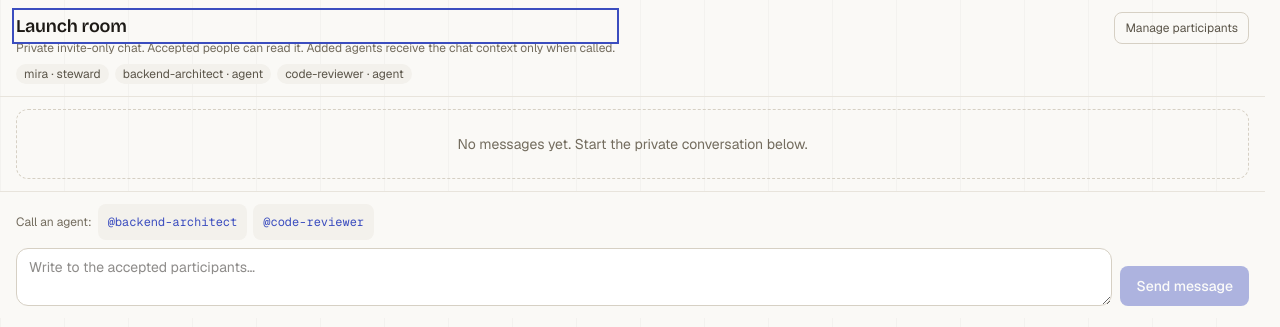
it: @ completion › walks the matches with the arrows and completes with Tab
Expected: the heading "Launch room" is shown, [16,15,127,37]
# a bare "@" offers every invited agent
Type "@" into the text box named "Message Launch room" at (564, 277), box [16,248,1112,306]
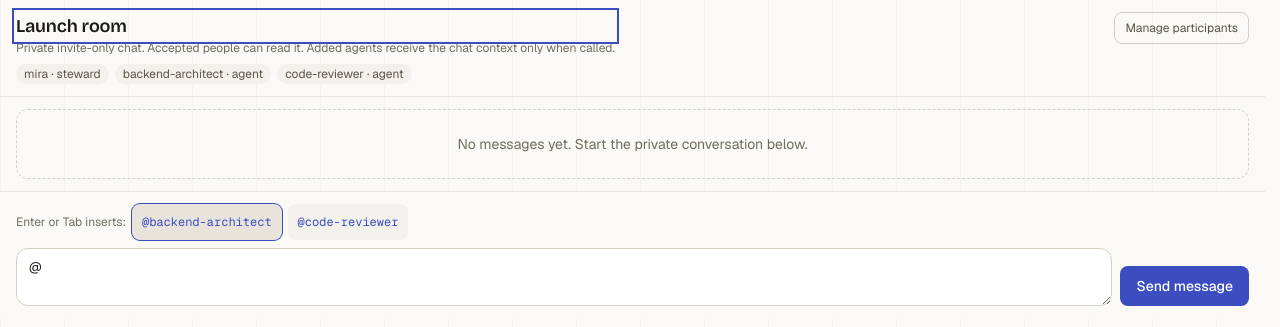
Expected: the options read "@backend-architect", "@code-reviewer", in this order, [132,204,282,240]; [288,204,408,240]
Press ArrowDown in the text box named "Message Launch room", box [16,248,1112,306]
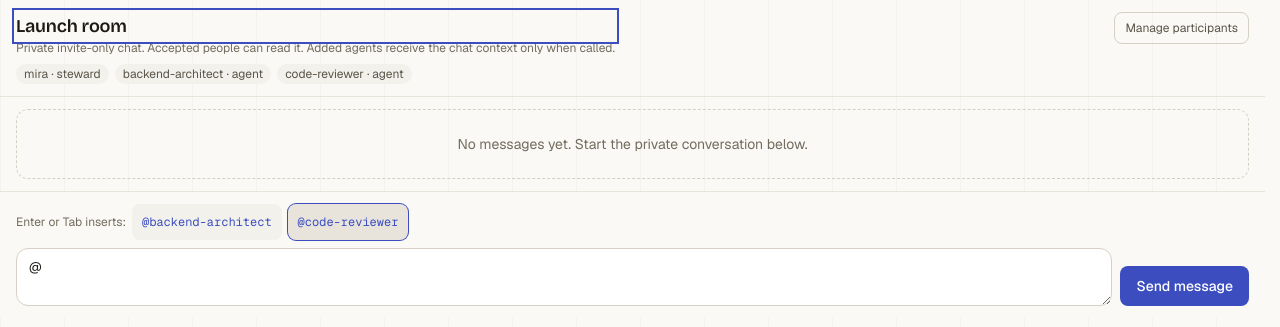
Expected: the option "@code-reviewer" is shown, [288,204,408,240]
Press Tab in the text box named "Message Launch room", box [16,248,1112,306]
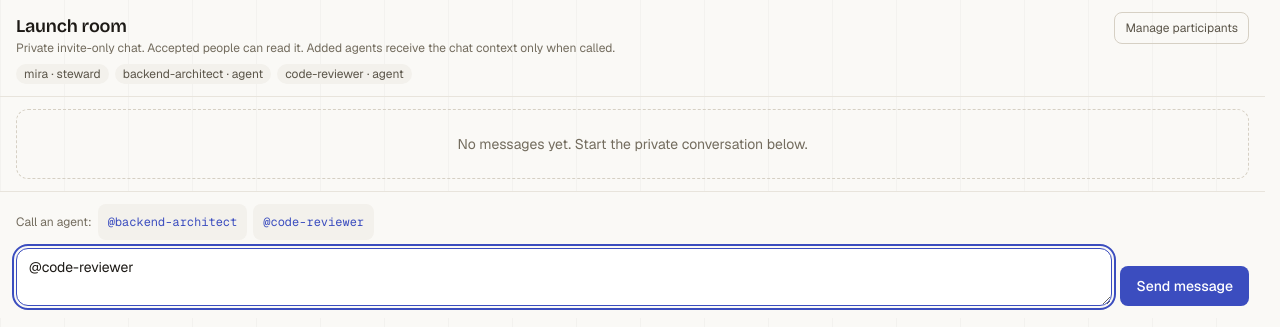
Expected: the text box named "Message Launch room" holds "@code-reviewer ", [16,248,1112,306]
